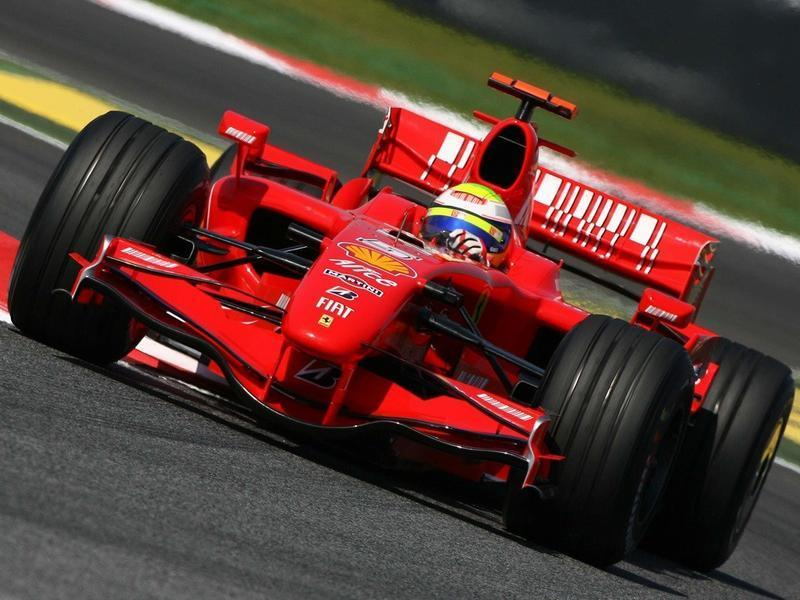f1: (23, 28, 789, 568)
